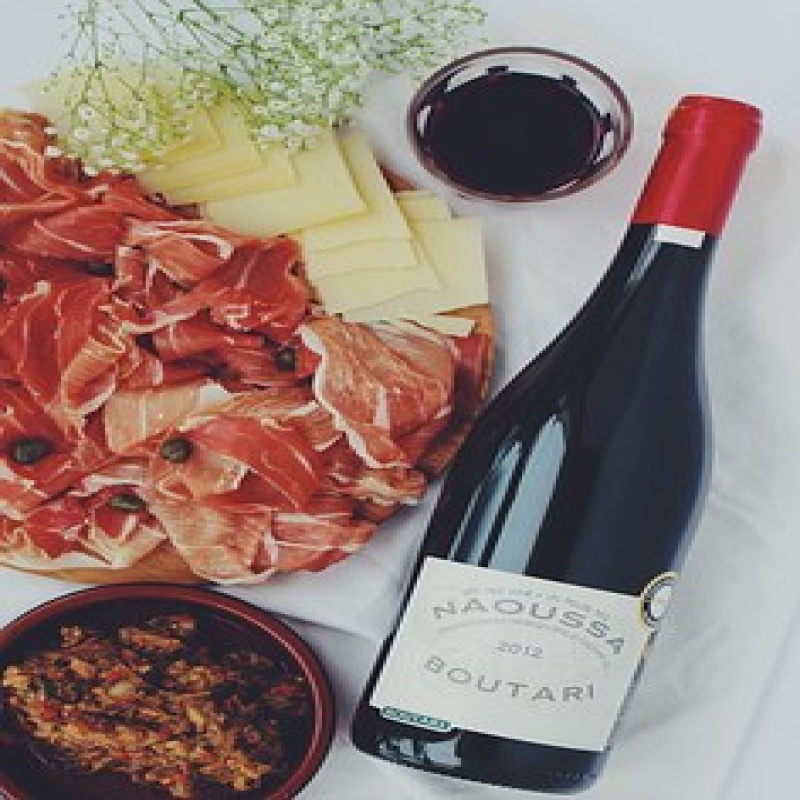wine: (352, 97, 766, 786)
